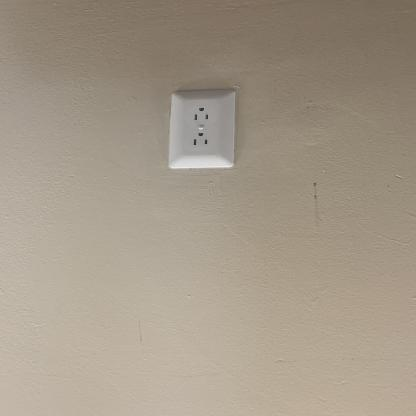OUTLET: (168, 90, 236, 170)
